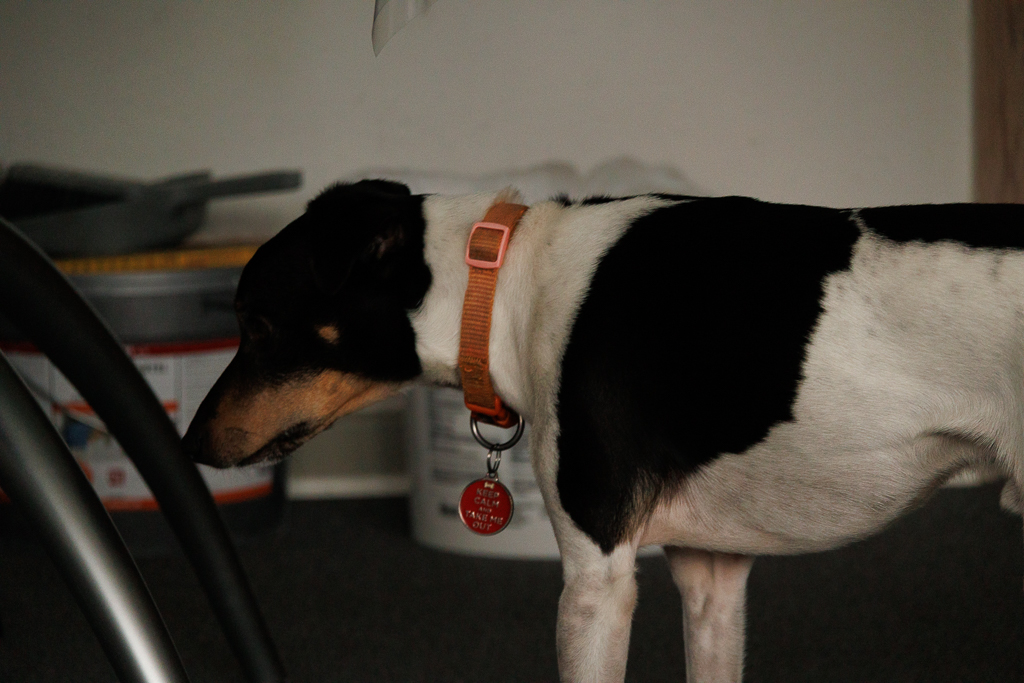Dog: (167, 169, 1024, 683)
